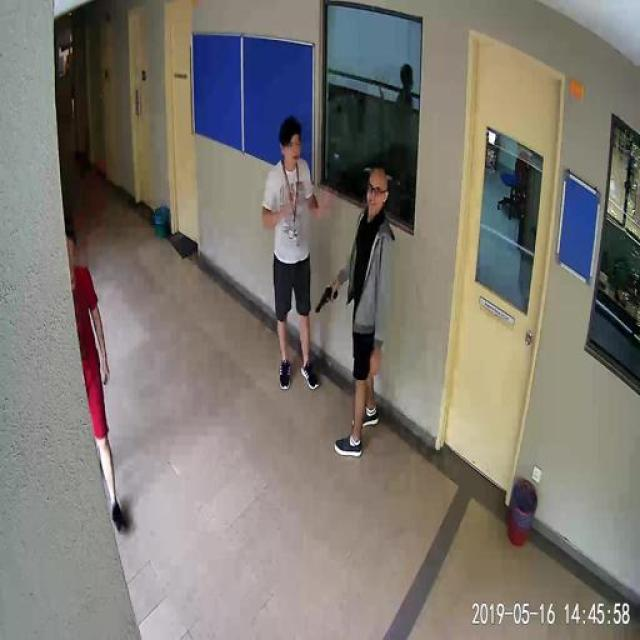Gun: (314, 281, 343, 321)
